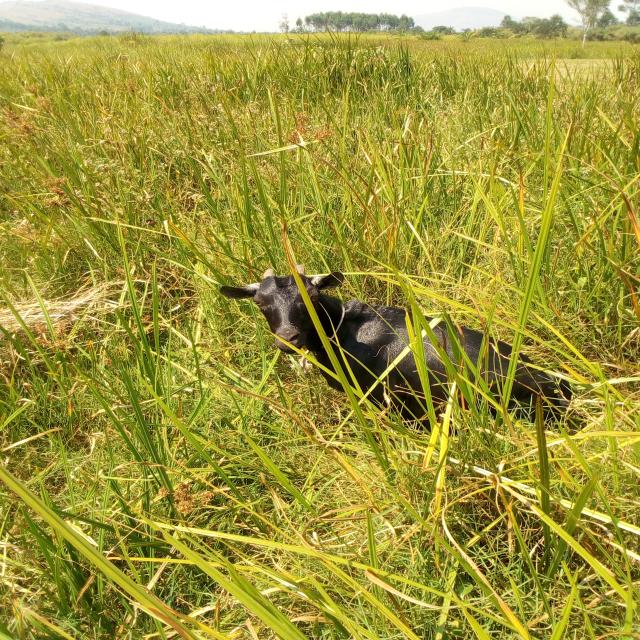goat: (187, 231, 626, 461)
